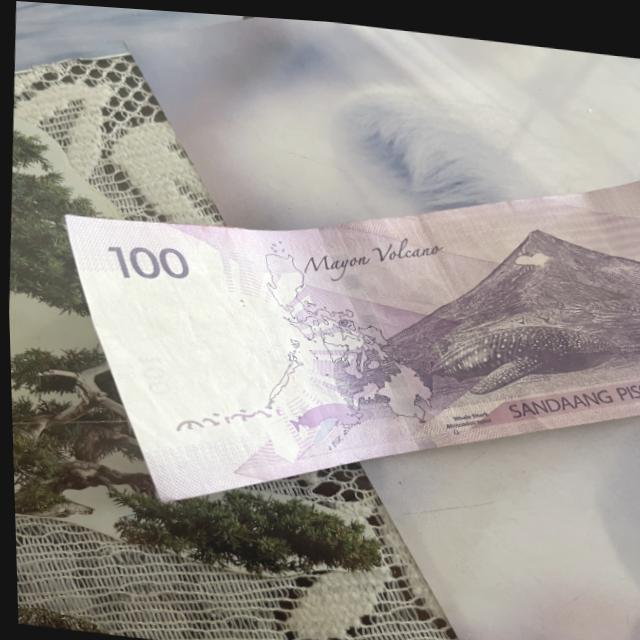100_whale: (374, 294, 640, 415)
100_whale_watermark: (283, 387, 380, 447)
value_watermark: (121, 342, 177, 400)
watermark: (109, 245, 315, 443)
